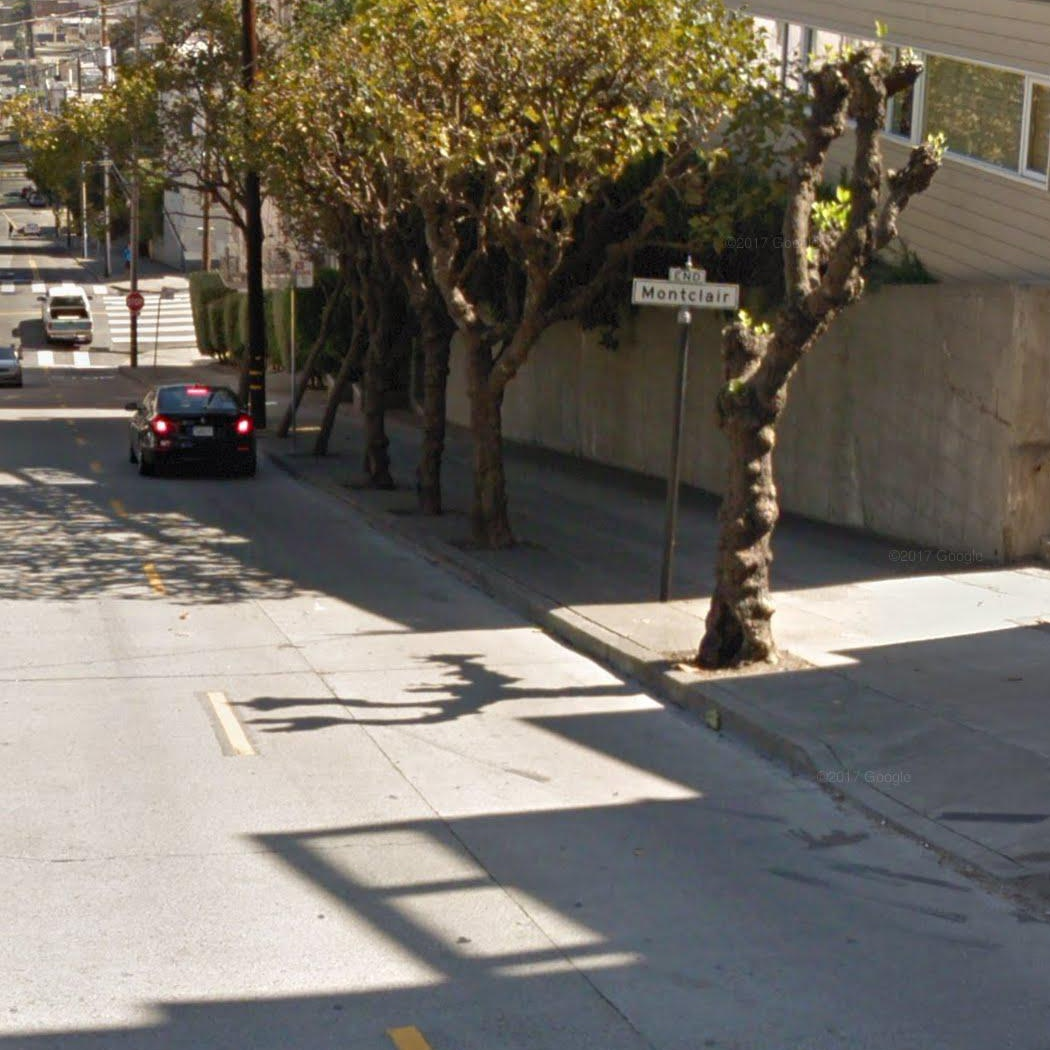No Parking Anytime: (293, 259, 317, 290)
